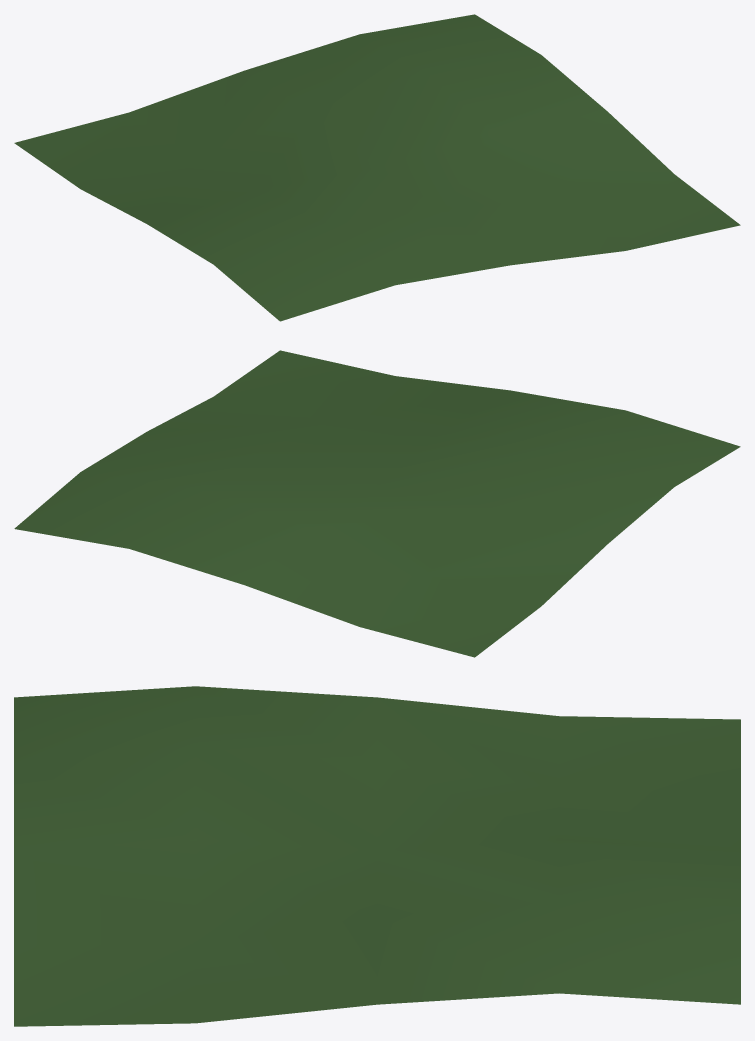
File: GREENPLANE.glb
3 renders of one model, top to bottom at view 1: azimuth 30°, elevation 25°; view 2: azimuth 150°, elevation 25°; view 3: azimuth 270°, elevation 25°, orthographic. The views are drawn at different scales.
Visible parts, largest first — view 1: Plane; view 2: Plane; view 3: Plane.
Boxes of the visible parts, x1=… form: Plane: x1=14, y1=14, x2=740, y2=321; Plane: x1=14, y1=350, x2=740, y2=657; Plane: x1=14, y1=686, x2=740, y2=1026.
Bounding box in the file's own units: 2 × 0.1479 × 2.
